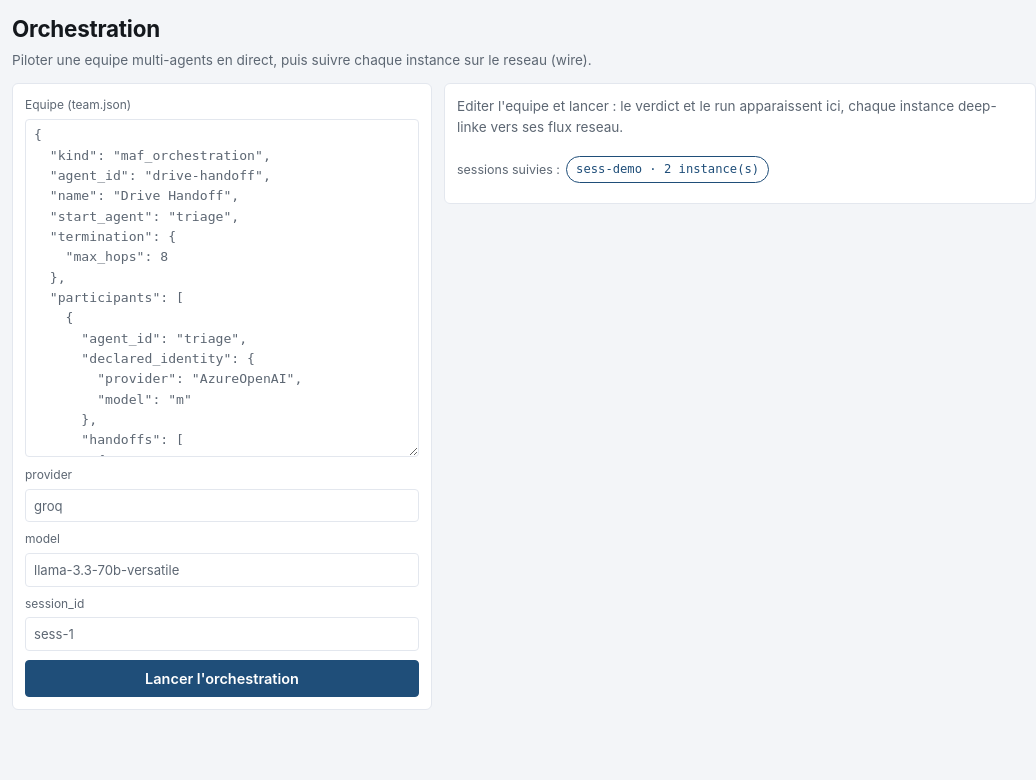
Scenario: OrchestratePage (R16 contract) › surfaces a backend error (e.g. missing provider key)
Click the button with test id "orchestrate-run".
click(222, 679)  # box [25,660,419,698]
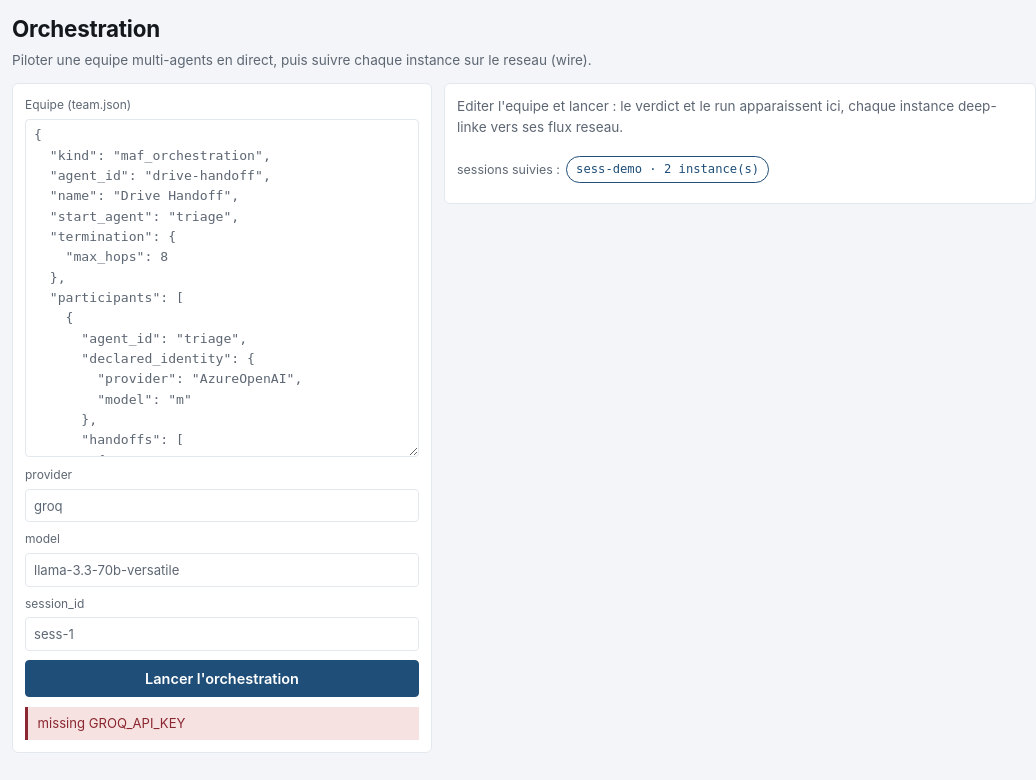
Expected: the message with test id "orchestrate-error" reads "missing GROQ_API_KEY", [38,716,185,732]
